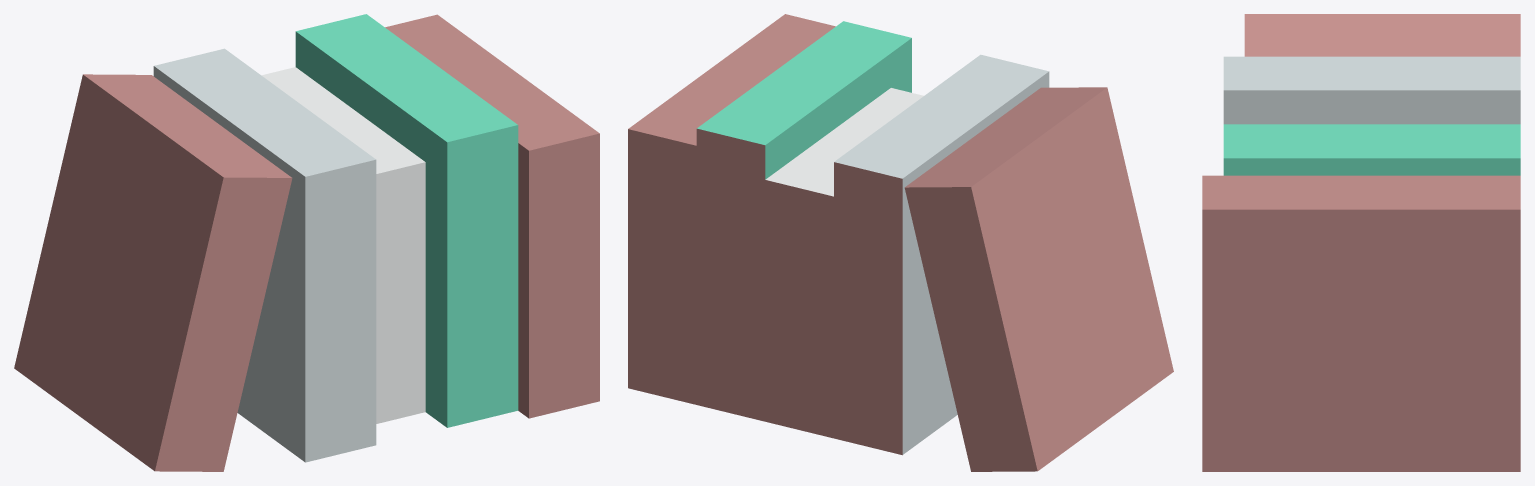
Rendered from books-col.glb.
The picture shows the model from 3 angles, left to right: view 1: azimuth 30°, elevation 25°; view 2: azimuth 150°, elevation 25°; view 3: azimuth 270°, elevation 25°; orthographic projection. The views are drawn at different scales.
Parts seen in each view (by area): view 1: books-col; view 2: books-col; view 3: books-col.
Boxes of the visible parts, bbox=[...] form: books-col: bbox=[14, 14, 599, 471]; books-col: bbox=[628, 14, 1173, 471]; books-col: bbox=[1202, 14, 1520, 471].
Bounding box in the file's own units: 0.1504 × 0.1 × 0.1.
